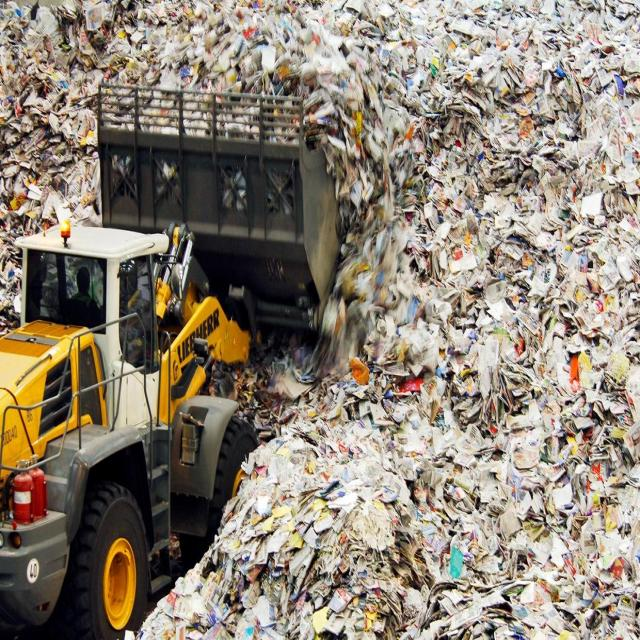heap: (1, 2, 640, 633)
others: (1, 101, 341, 612)
